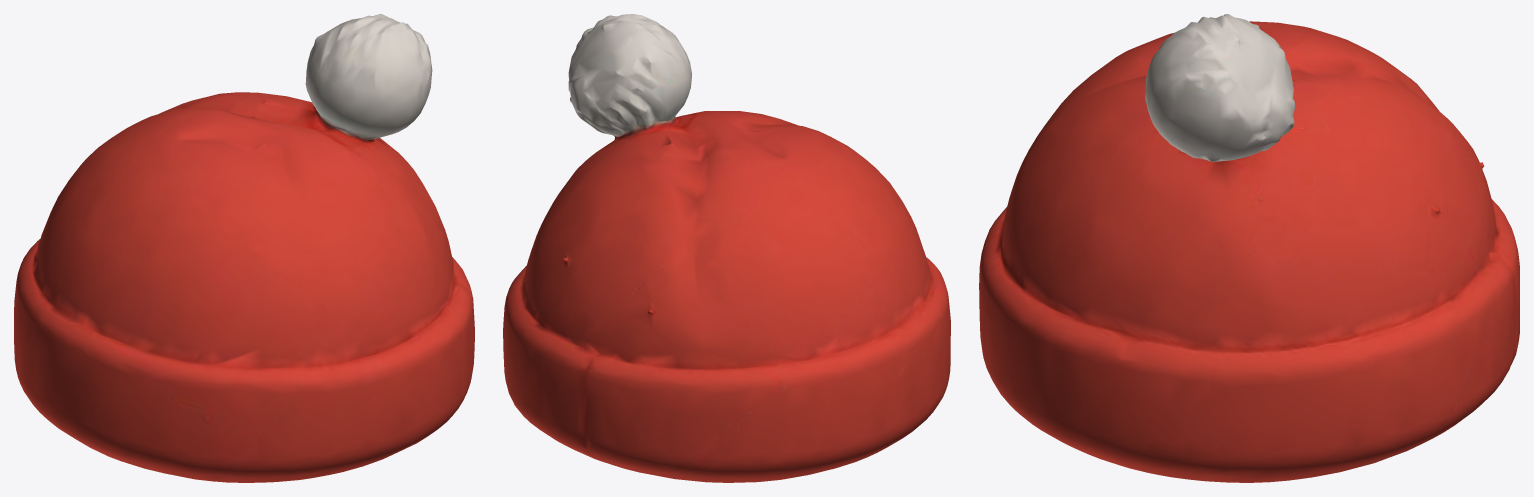
Rendered from hat_beanie.glb.
The picture shows the model from 3 angles, left to right: view 1: azimuth 30°, elevation 25°; view 2: azimuth 150°, elevation 25°; view 3: azimuth 270°, elevation 25°; orthographic projection. The views are drawn at different scales.
Parts seen in each view (by area): view 1: tripo_node_9869f2c0-0908-4dc8-8d8e-6786819f498b; view 2: tripo_node_9869f2c0-0908-4dc8-8d8e-6786819f498b; view 3: tripo_node_9869f2c0-0908-4dc8-8d8e-6786819f498b.
Part boxes in pixels (bbox=[...]): tripo_node_9869f2c0-0908-4dc8-8d8e-6786819f498b: bbox=[14, 14, 474, 482]; tripo_node_9869f2c0-0908-4dc8-8d8e-6786819f498b: bbox=[503, 14, 950, 482]; tripo_node_9869f2c0-0908-4dc8-8d8e-6786819f498b: bbox=[979, 14, 1519, 482].
Bounding box in the file's own units: 1 × 0.9576 × 0.9991.
1 material, 1 textured.
